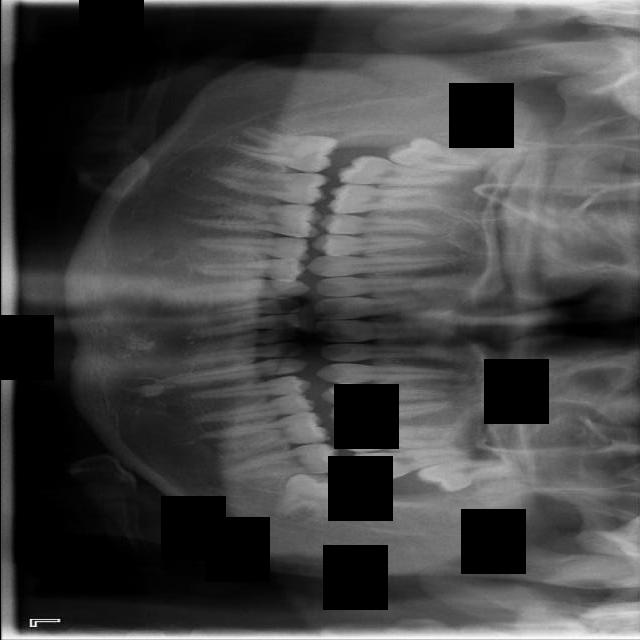3M ESPE Implant: (384, 132, 485, 178)
73: (40, 580, 50, 590)
BioHorizons Implant: (349, 445, 468, 482)
BioLife Implant: (413, 451, 515, 499)
Biomet 3i Implant: (272, 462, 360, 536)
Blue Sky Bio Implant: (217, 440, 348, 482)
Caries: (336, 155, 461, 185)
Implant: (209, 164, 329, 207)
Keystone Dental Implant: (224, 122, 342, 177)
